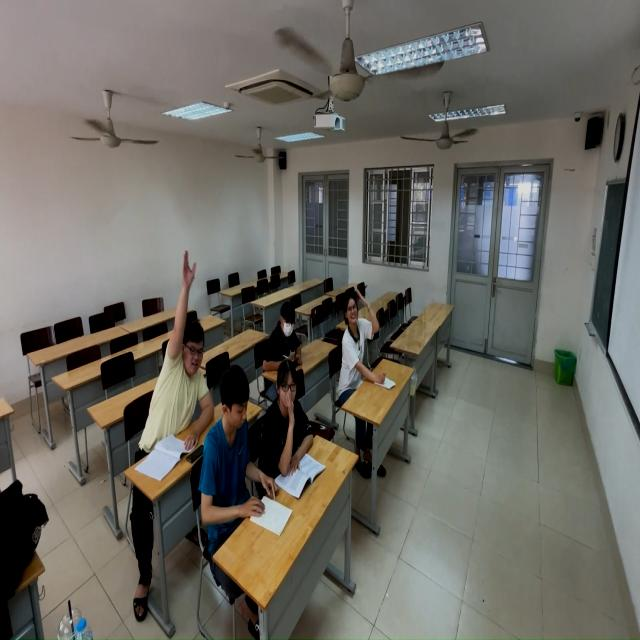raise_hand: (147, 243, 221, 461), (336, 284, 391, 402), (269, 356, 319, 483)
read: (201, 369, 295, 537), (265, 302, 306, 368)
